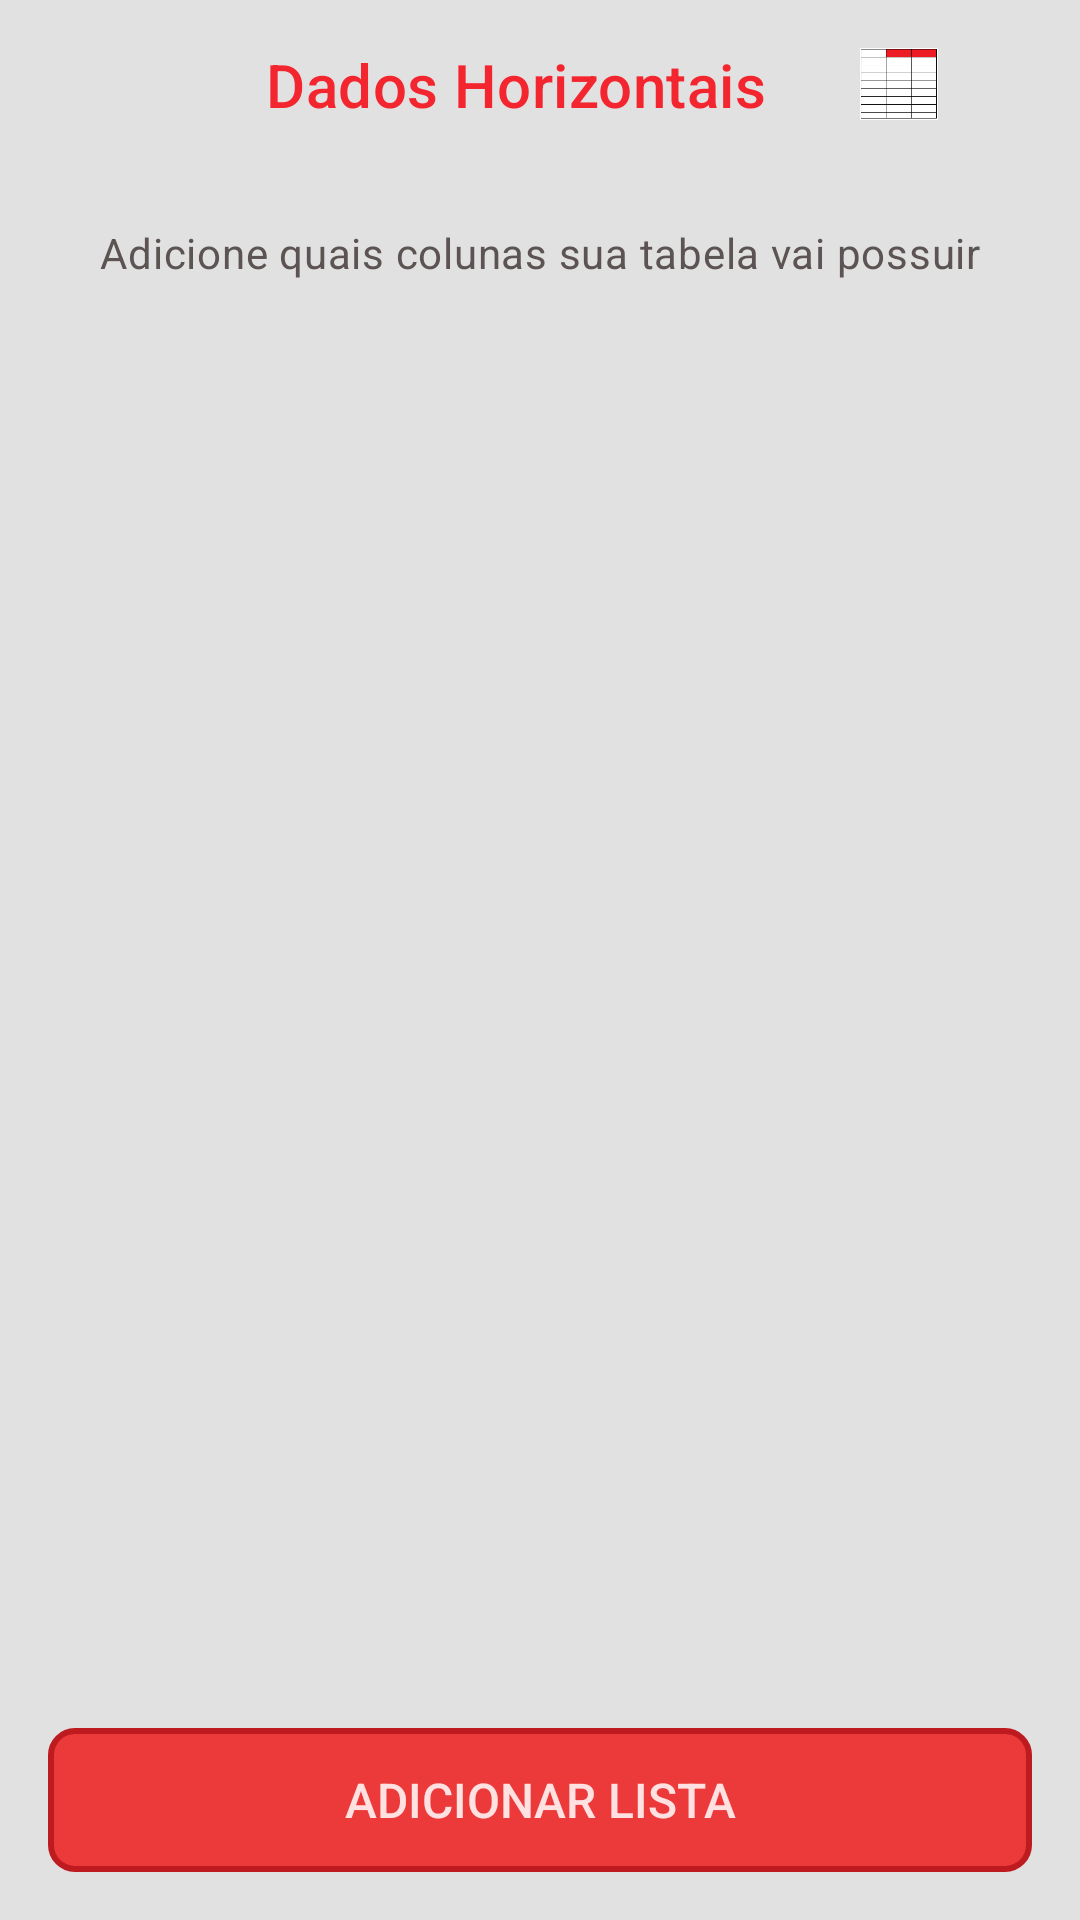

Screen size 1080*1920. Icon name, then its box in pixels as box(x1, y1, x2, y2):
horizontal data sheet: box(860, 48, 938, 120)
